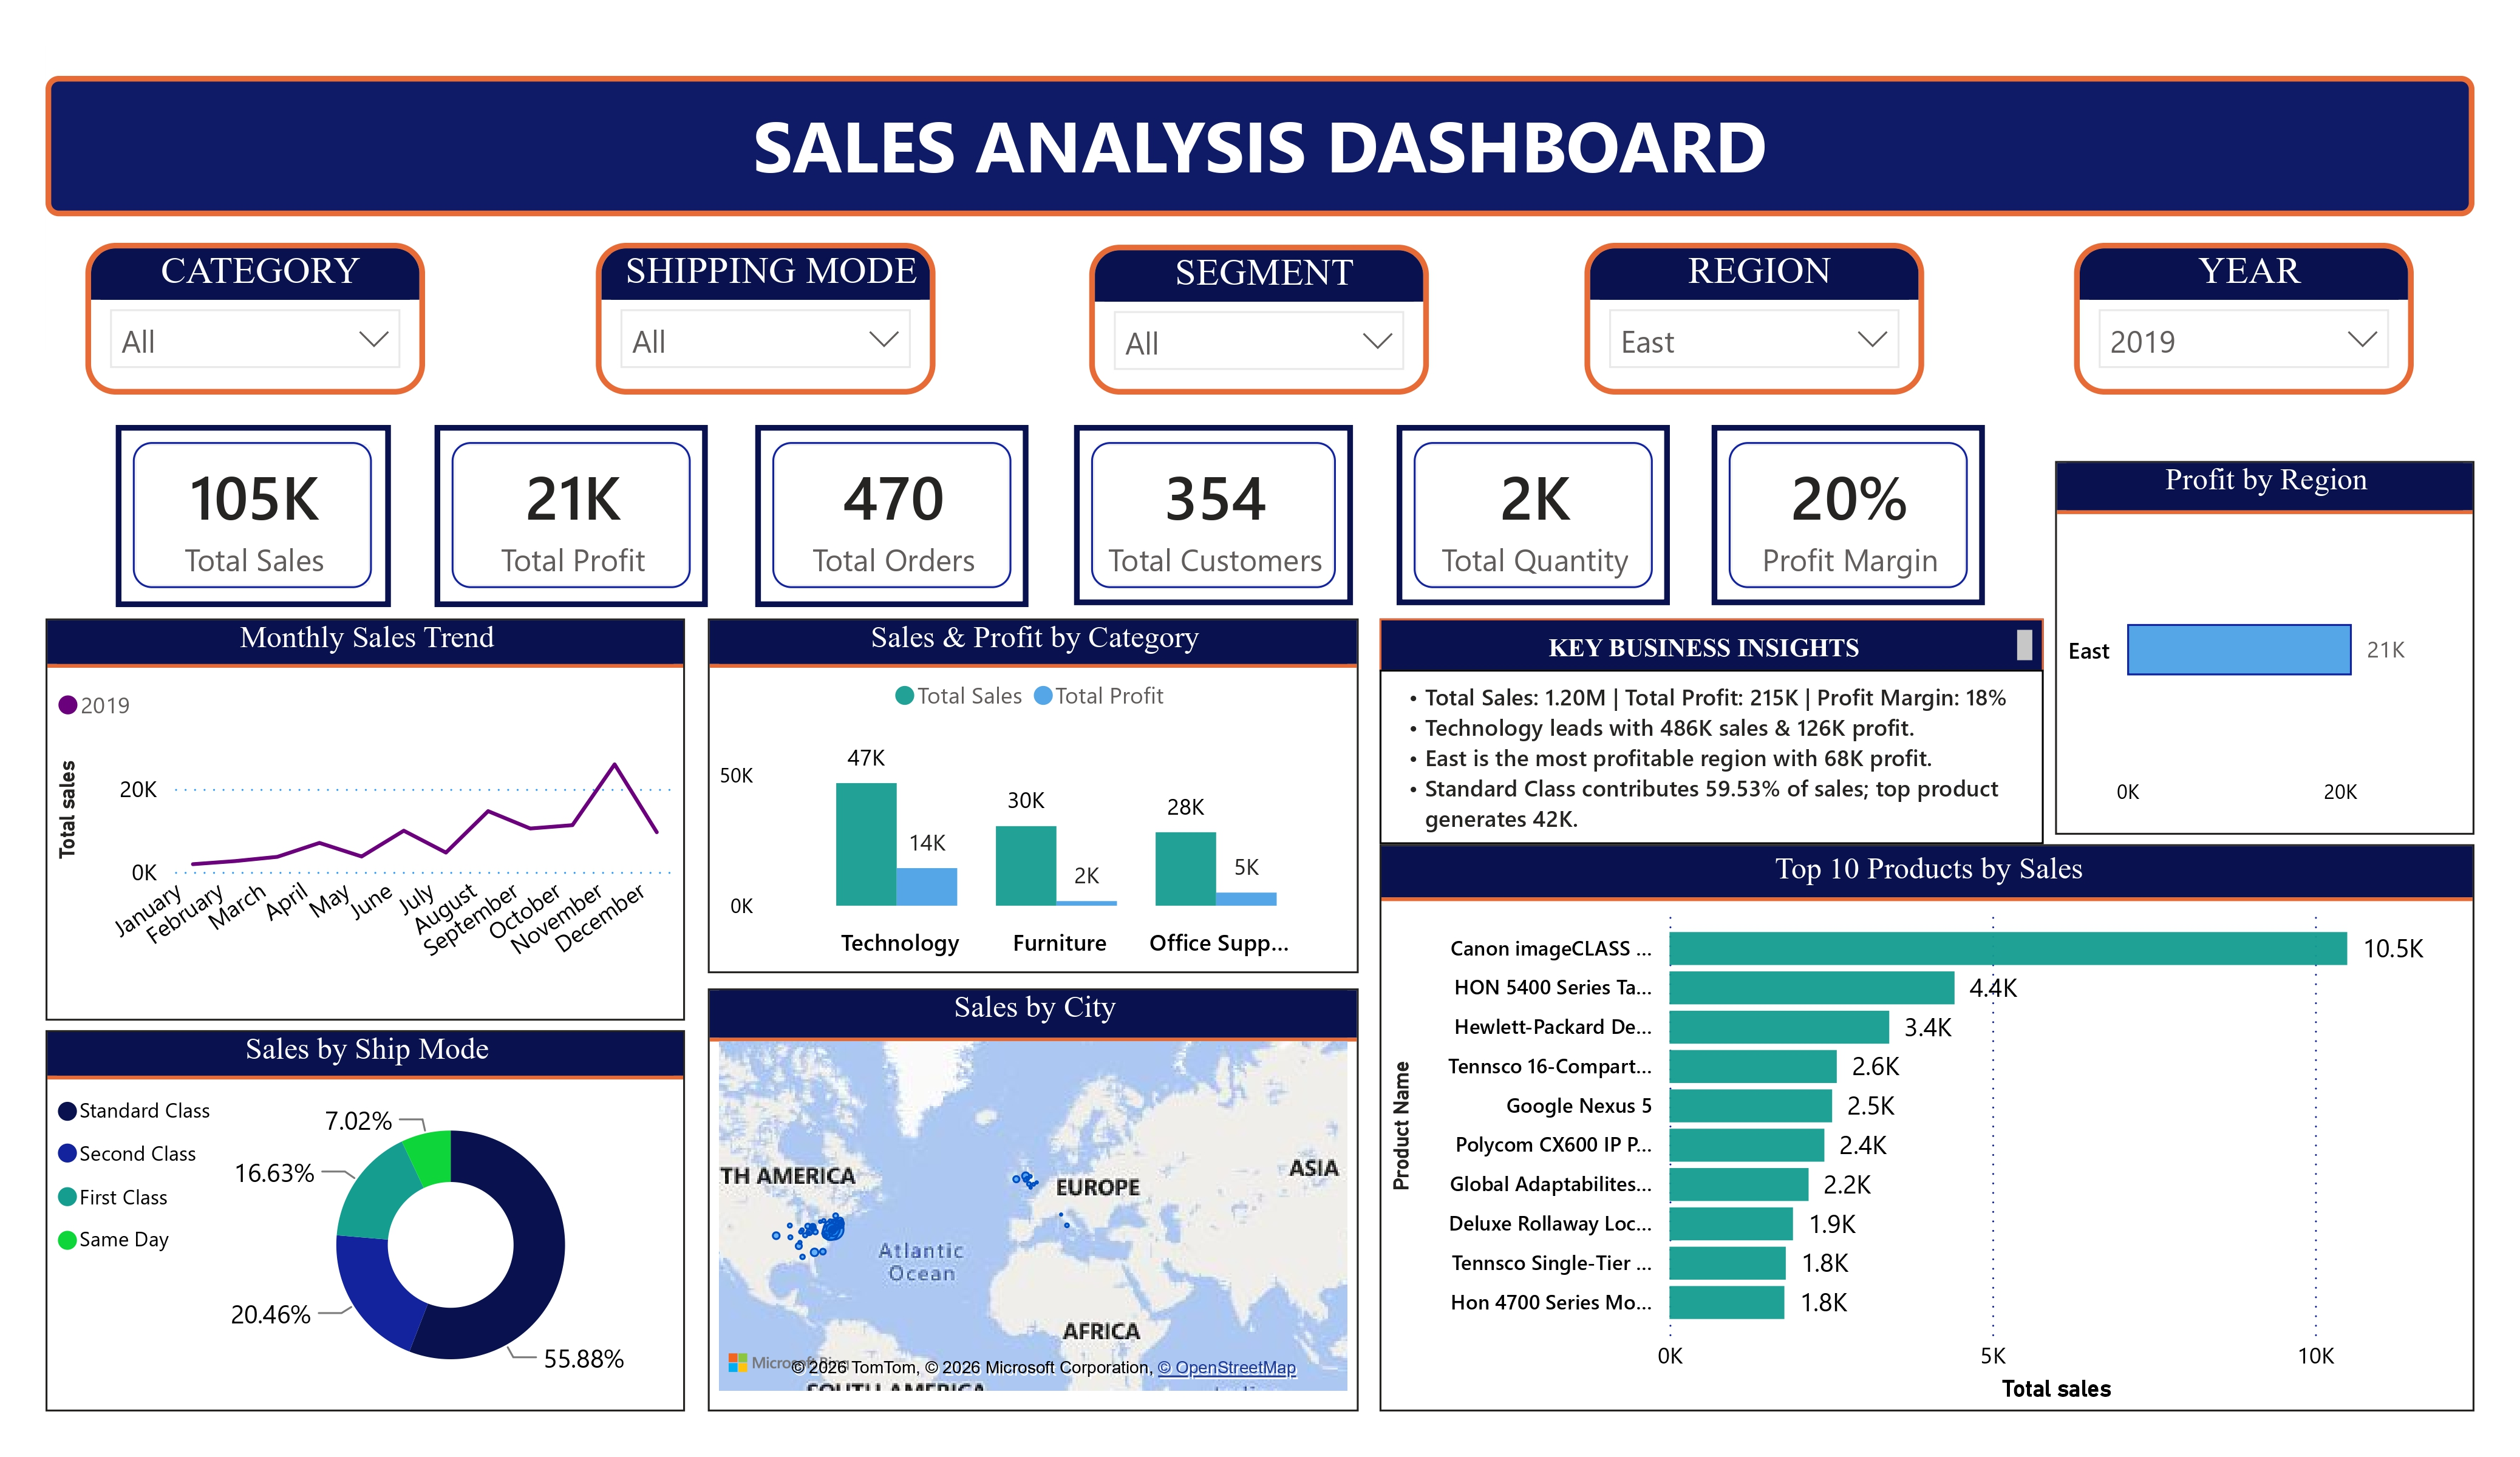

What the dashboard file says about the page in this screenshot:
{"tool":"powerbi","page":{"name":"sales analysis dashboard","canvas":[1280,720],"ordinal":0},"visuals":[{"type":"textbox","box":[0,16.2,1280,73.8],"z":0},{"type":"slicer","title":"YEAR","fields":{"Values":["Sales.order year"]},"box":[1068.9,103.8,179,80],"z":1000},{"type":"slicer","title":"REGION","fields":{"Values":["Sales.Region"]},"box":[810.7,103.8,179.8,80],"z":2000},{"type":"slicer","title":"CATEGORY","fields":{"Values":["Sales.Category"]},"box":[20.5,103.8,179,80],"z":3000},{"type":"slicer","title":"SHIPPING MODE","fields":{"Values":["Sales.Ship Mode"]},"box":[289.5,103.8,179,80],"z":4000},{"type":"slicer","title":"SEGMENT","fields":{"Values":["Sales.Segment"]},"box":[550.1,105,179,79],"z":5000},{"type":"cardVisual","fields":{"Data":["Sales.Total Sales"]},"box":[37.4,200.3,144.4,95.8],"z":6000},{"type":"cardVisual","fields":{"Data":["Sales.Total Quantity"]},"box":[711.8,200.3,144,95],"z":7000},{"type":"cardVisual","fields":{"Data":["Sales.total profit"]},"box":[205.1,200.3,144,95.8],"z":8000},{"type":"cardVisual","fields":{"Data":["Sales.Total Orders"]},"box":[374,200.3,144,95.8],"z":9000},{"type":"cardVisual","fields":{"Data":["Sales.Total Customers"]},"box":[542,200.3,147,95],"z":10000},{"type":"cardVisual","fields":{"Data":["Sales.Profit Margin %"]},"box":[878.3,200.3,144,95],"z":11000},{"type":"lineChart","title":"Monthly Sales Trend","fields":{"Y":["Sales.Total Sales"],"Category":["Sales.order Month"],"Series":["Sales.order year"]},"box":[0,301.6,336.6,212.3],"z":12000},{"type":"clusteredColumnChart","title":"Sales & Profit by Category","fields":{"Category":["Sales.Category"],"Y":["Sales.Total Sales","Sales.total profit"]},"box":[348.7,301.6,343.8,187],"z":13000},{"type":"clusteredBarChart","title":"Profit by Region","fields":{"Category":["Sales.Region"],"Y":["Sales.total profit"]},"box":[1058.6,218.6,221.4,197.1],"z":14000},{"type":"donutChart","title":"Sales by Ship Mode","fields":{"Category":["Sales.Ship Mode"],"Y":["Sales.Ship Mode Sales"]},"box":[0,518.8,336.6,201.5],"z":15000},{"type":"clusteredBarChart","title":"Top 10 Products by Sales","fields":{"Category":["Sales.Product Name"],"Y":["Sales.Total Sales"]},"box":[702.9,421.4,577.1,298.6],"z":16000},{"type":"map","title":"Sales by City","fields":{"Category":["Sales.City"],"Size":["Sales.Total Sales"]},"box":[348.7,497.1,343.8,223.2],"z":17000},{"type":"textbox","box":[703.4,301.6,349.9,28],"z":18000},{"type":"textbox","box":[703.4,329.4,349.9,91.7],"z":19000}]}

Visuals, with their boxes in screenshot pixels (x1, y1, x2, y2):
textbox: locate(52, 76, 2450, 214)
"YEAR" slicer: locate(2054, 240, 2389, 390)
"REGION" slicer: locate(1571, 240, 1907, 390)
"CATEGORY" slicer: locate(91, 240, 426, 390)
"SHIPPING MODE" slicer: locate(594, 240, 930, 390)
"SEGMENT" slicer: locate(1083, 242, 1418, 390)
cardVisual - Sales.Total Sales: locate(123, 421, 393, 600)
cardVisual - Sales.Total Quantity: locate(1386, 421, 1655, 599)
cardVisual - Sales.total profit: locate(437, 421, 706, 600)
cardVisual - Sales.Total Orders: locate(753, 421, 1023, 600)
cardVisual - Sales.Total Customers: locate(1068, 421, 1343, 599)
cardVisual - Sales.Profit Margin %: locate(1697, 421, 1967, 599)
"Monthly Sales Trend" lineChart: locate(52, 611, 683, 1008)
"Sales & Profit by Category" clusteredColumnChart: locate(706, 611, 1349, 961)
"Profit by Region" clusteredBarChart: locate(2035, 455, 2450, 824)
"Sales by Ship Mode" donutChart: locate(52, 1017, 683, 1394)
"Top 10 Products by Sales" clusteredBarChart: locate(1369, 835, 2450, 1394)
"Sales by City" map: locate(706, 977, 1349, 1394)
textbox: locate(1370, 611, 2025, 663)
textbox: locate(1370, 663, 2025, 834)
